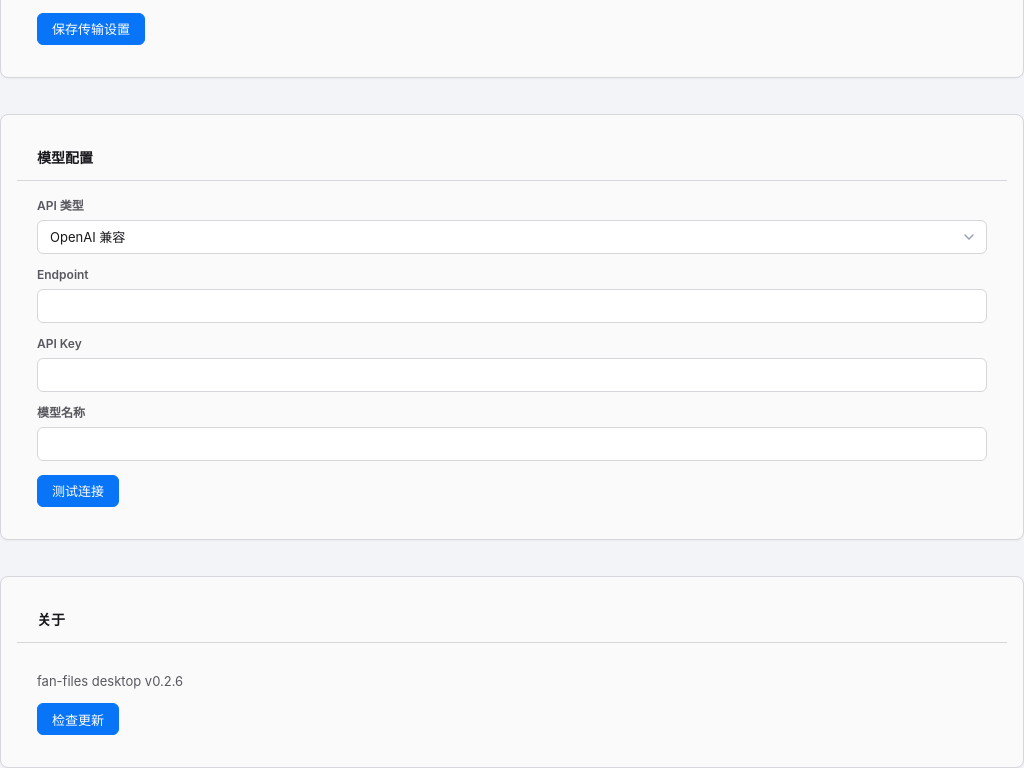
SettingsPage › shows check_update output text
This screenshot has width=1024, height=768.
(page scrolled)
Click the button "检查更新". click: click(78, 719)
box: [37, 703, 119, 735]
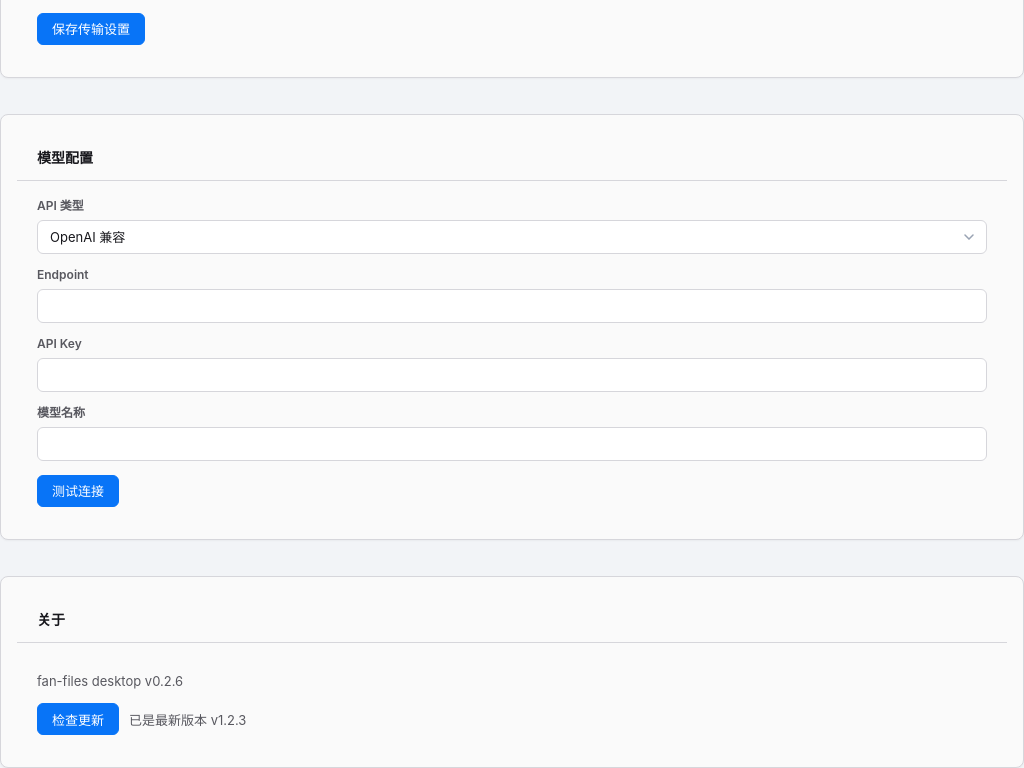
Expected: the text "已是最新版本 v1.2.3" is shown, [129, 712, 246, 728]
